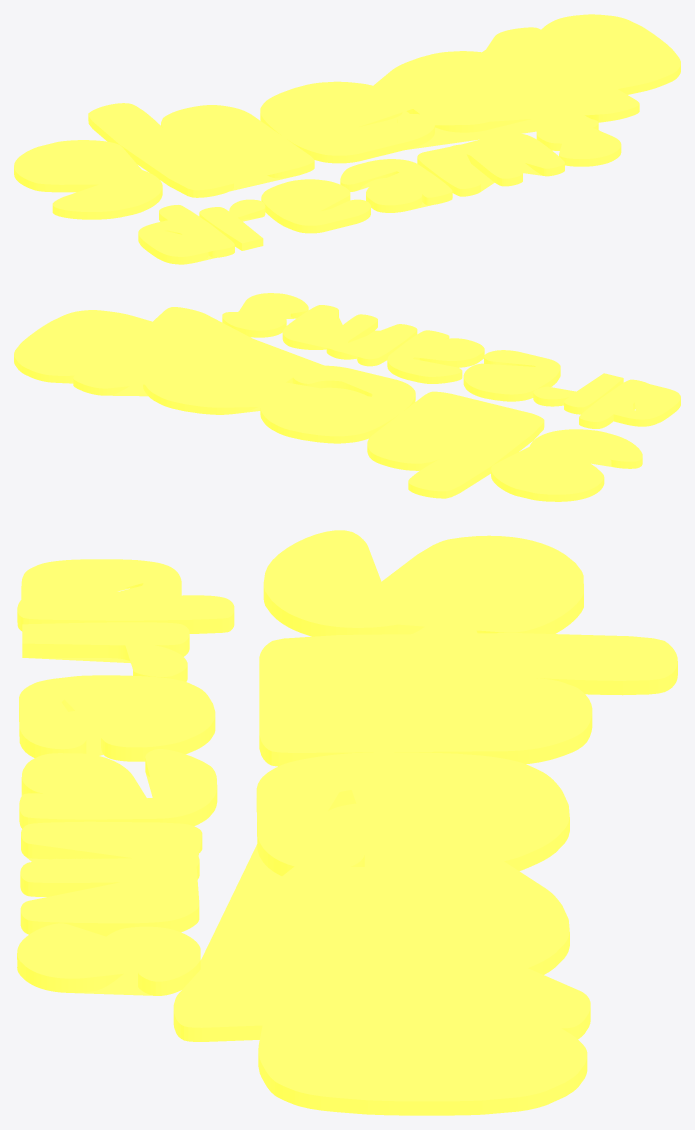
File: THESEsheepDreams.fbx
3 renders of one model, top to bottom at view 1: azimuth 30°, elevation 25°; view 2: azimuth 150°, elevation 25°; view 3: azimuth 270°, elevation 25°, orthographic. The views are drawn at different scales.
Parts seen in each view (by area): view 1: Curve.003; view 2: Curve.003; view 3: Curve.003.
Boxes of the visible parts, <box> form: Curve.003: <box>14,14,680,264</box>; Curve.003: <box>14,293,680,501</box>; Curve.003: <box>17,530,677,1115</box>.
Bounding box in the file's own units: 998 × 11.61 × 488.
